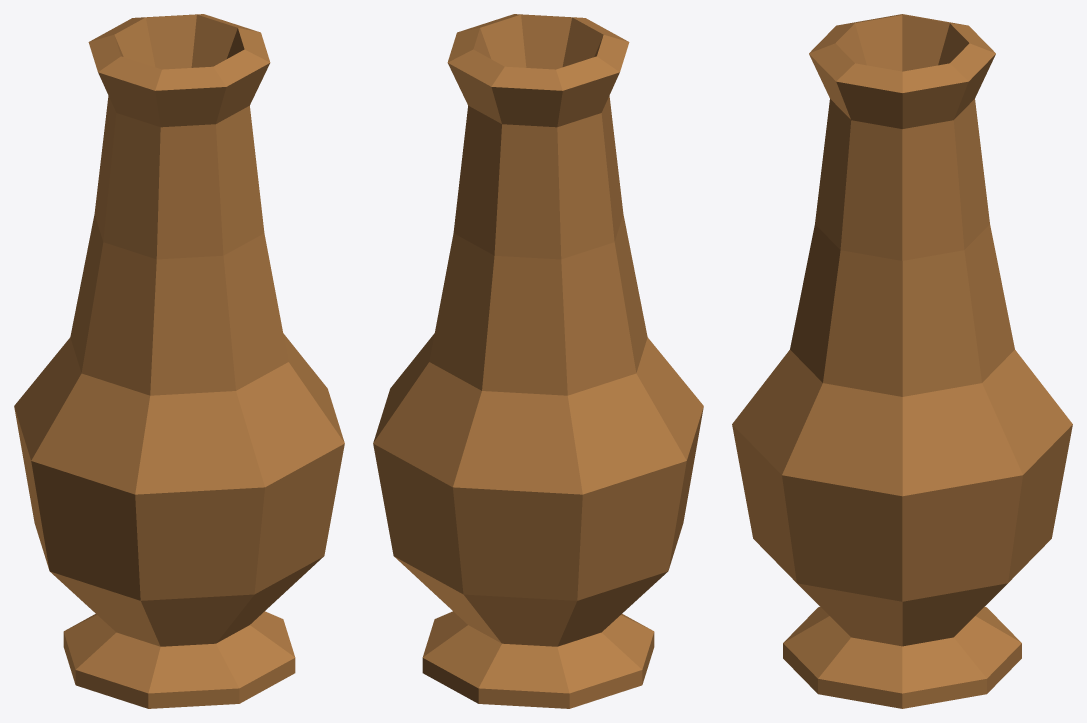
File: Pot_4.fbx
3 views of the same model, side by side, from view 1: azimuth 30°, elevation 25°; view 2: azimuth 150°, elevation 25°; view 3: azimuth 270°, elevation 25° (orthographic).
Parts seen in each view (by area): view 1: Pot_4; view 2: Pot_4; view 3: Pot_4.
Part boxes in pixels (box(x1,y1,x2,y2)): Pot_4: box(14, 14, 344, 708); Pot_4: box(373, 14, 703, 708); Pot_4: box(732, 14, 1072, 708).
Size of the model in its own units: 16.37 by 32.59 by 16.37.
